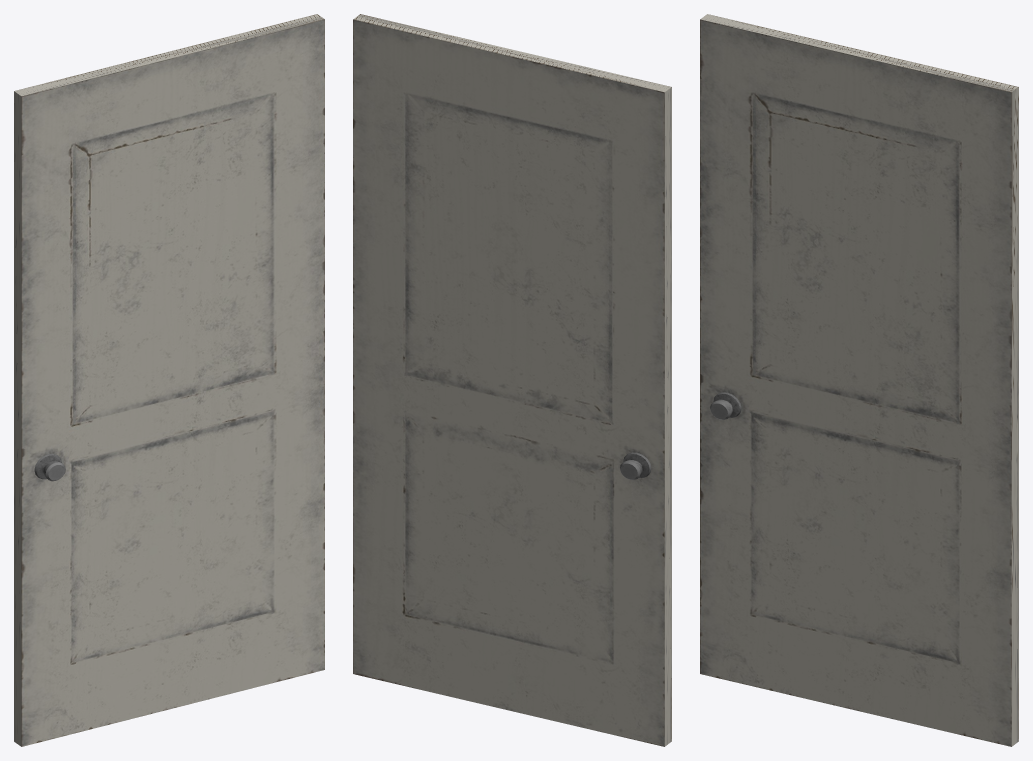
File: BathroomLGate.glb
3 renders of one model, left to right at view 1: azimuth 30°, elevation 25°; view 2: azimuth 150°, elevation 25°; view 3: azimuth 330°, elevation 25°, orthographic.
Parts seen in each view (by area): view 1: Door_low.002_Door_0.001; view 2: Door_low.002_Door_0.001; view 3: Door_low.002_Door_0.001.
Boxes of the visible parts, box(x1,y1,x2,y2) form: Door_low.002_Door_0.001: box(14, 14, 324, 746); Door_low.002_Door_0.001: box(353, 14, 671, 746); Door_low.002_Door_0.001: box(700, 14, 1018, 746).
Bounding box in the file's own units: 1.1 × 2.22 × 0.1502.
Materials: 1 (1 with a texture image).
